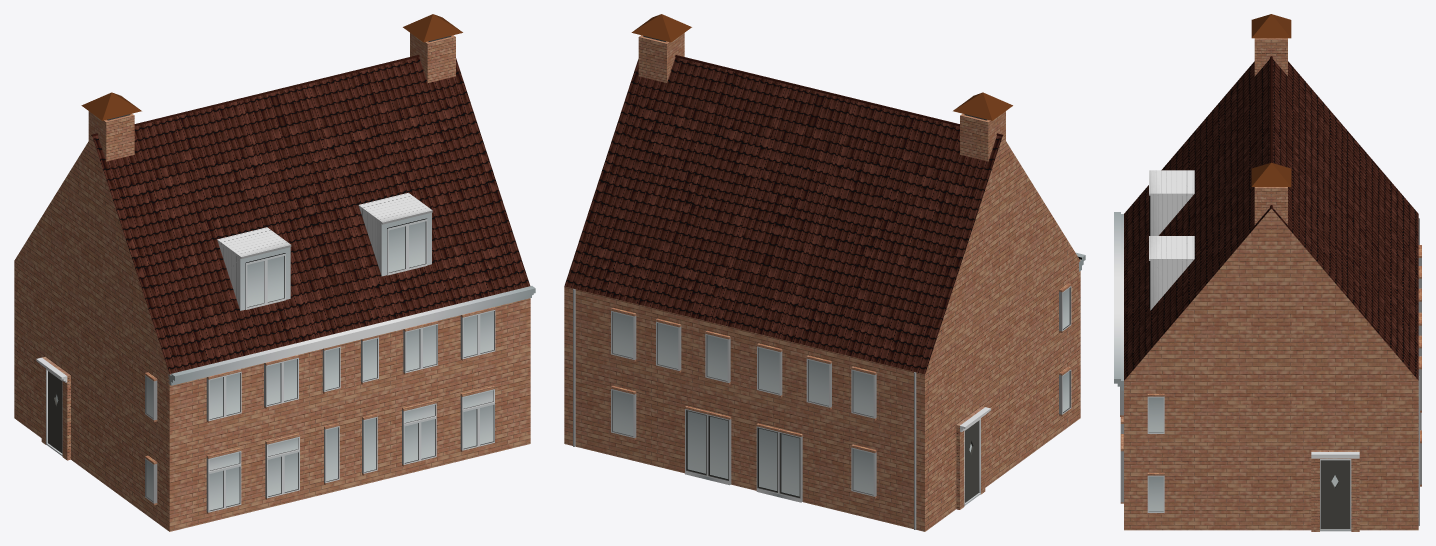
File: Molkenkelder 1-9.fbx
3 renders of one model, left to right at view 1: azimuth 30°, elevation 25°; view 2: azimuth 150°, elevation 25°; view 3: azimuth 270°, elevation 25°, orthographic. The views are drawn at different scales.
Visible parts, largest first — view 1: Molkenkelder1_9; view 2: Molkenkelder1_9; view 3: Molkenkelder1_9.
Boxes of the visible parts, x1,y1,x2,y2 form: Molkenkelder1_9: (14,14,535,531); Molkenkelder1_9: (564,14,1085,531); Molkenkelder1_9: (1114,14,1421,531).
Bounding box in the file's own units: 12.39 × 11.81 × 9.19.
